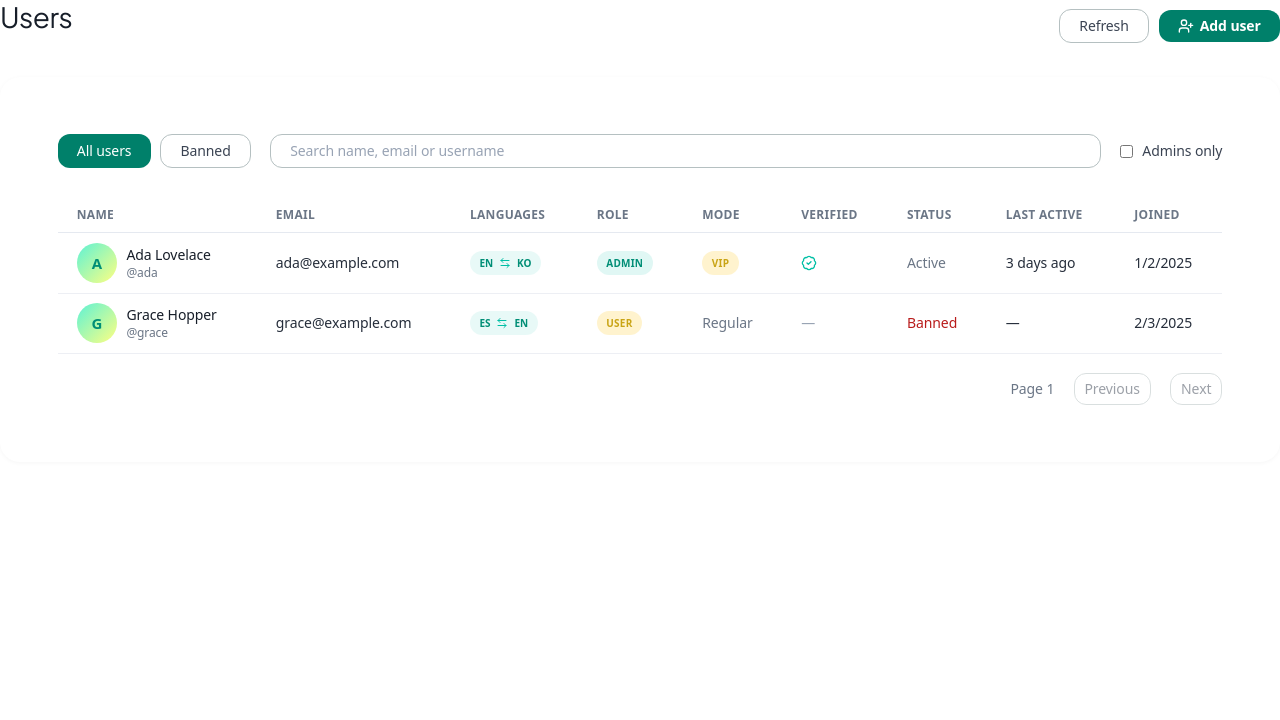
Test case: opens the register popup from the Add user button
What coordinates should you click on to do the following:
click the button with test id "admin-users-add"
I would click on:
 (1219, 26)
Its box is [1159,10,1279,42].
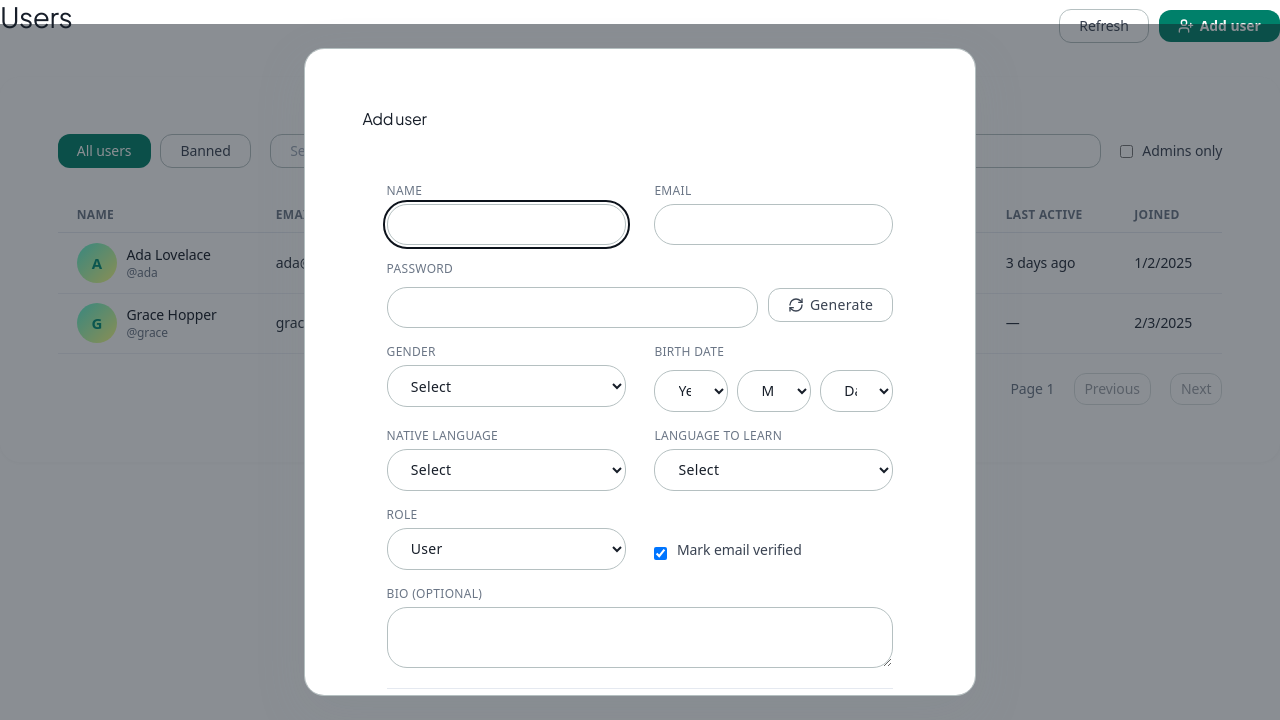
Now the dialog with test id "register-user-dialog" is shown, box [304,48,976,696]
